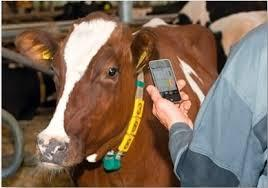cow: (14, 11, 219, 187)
